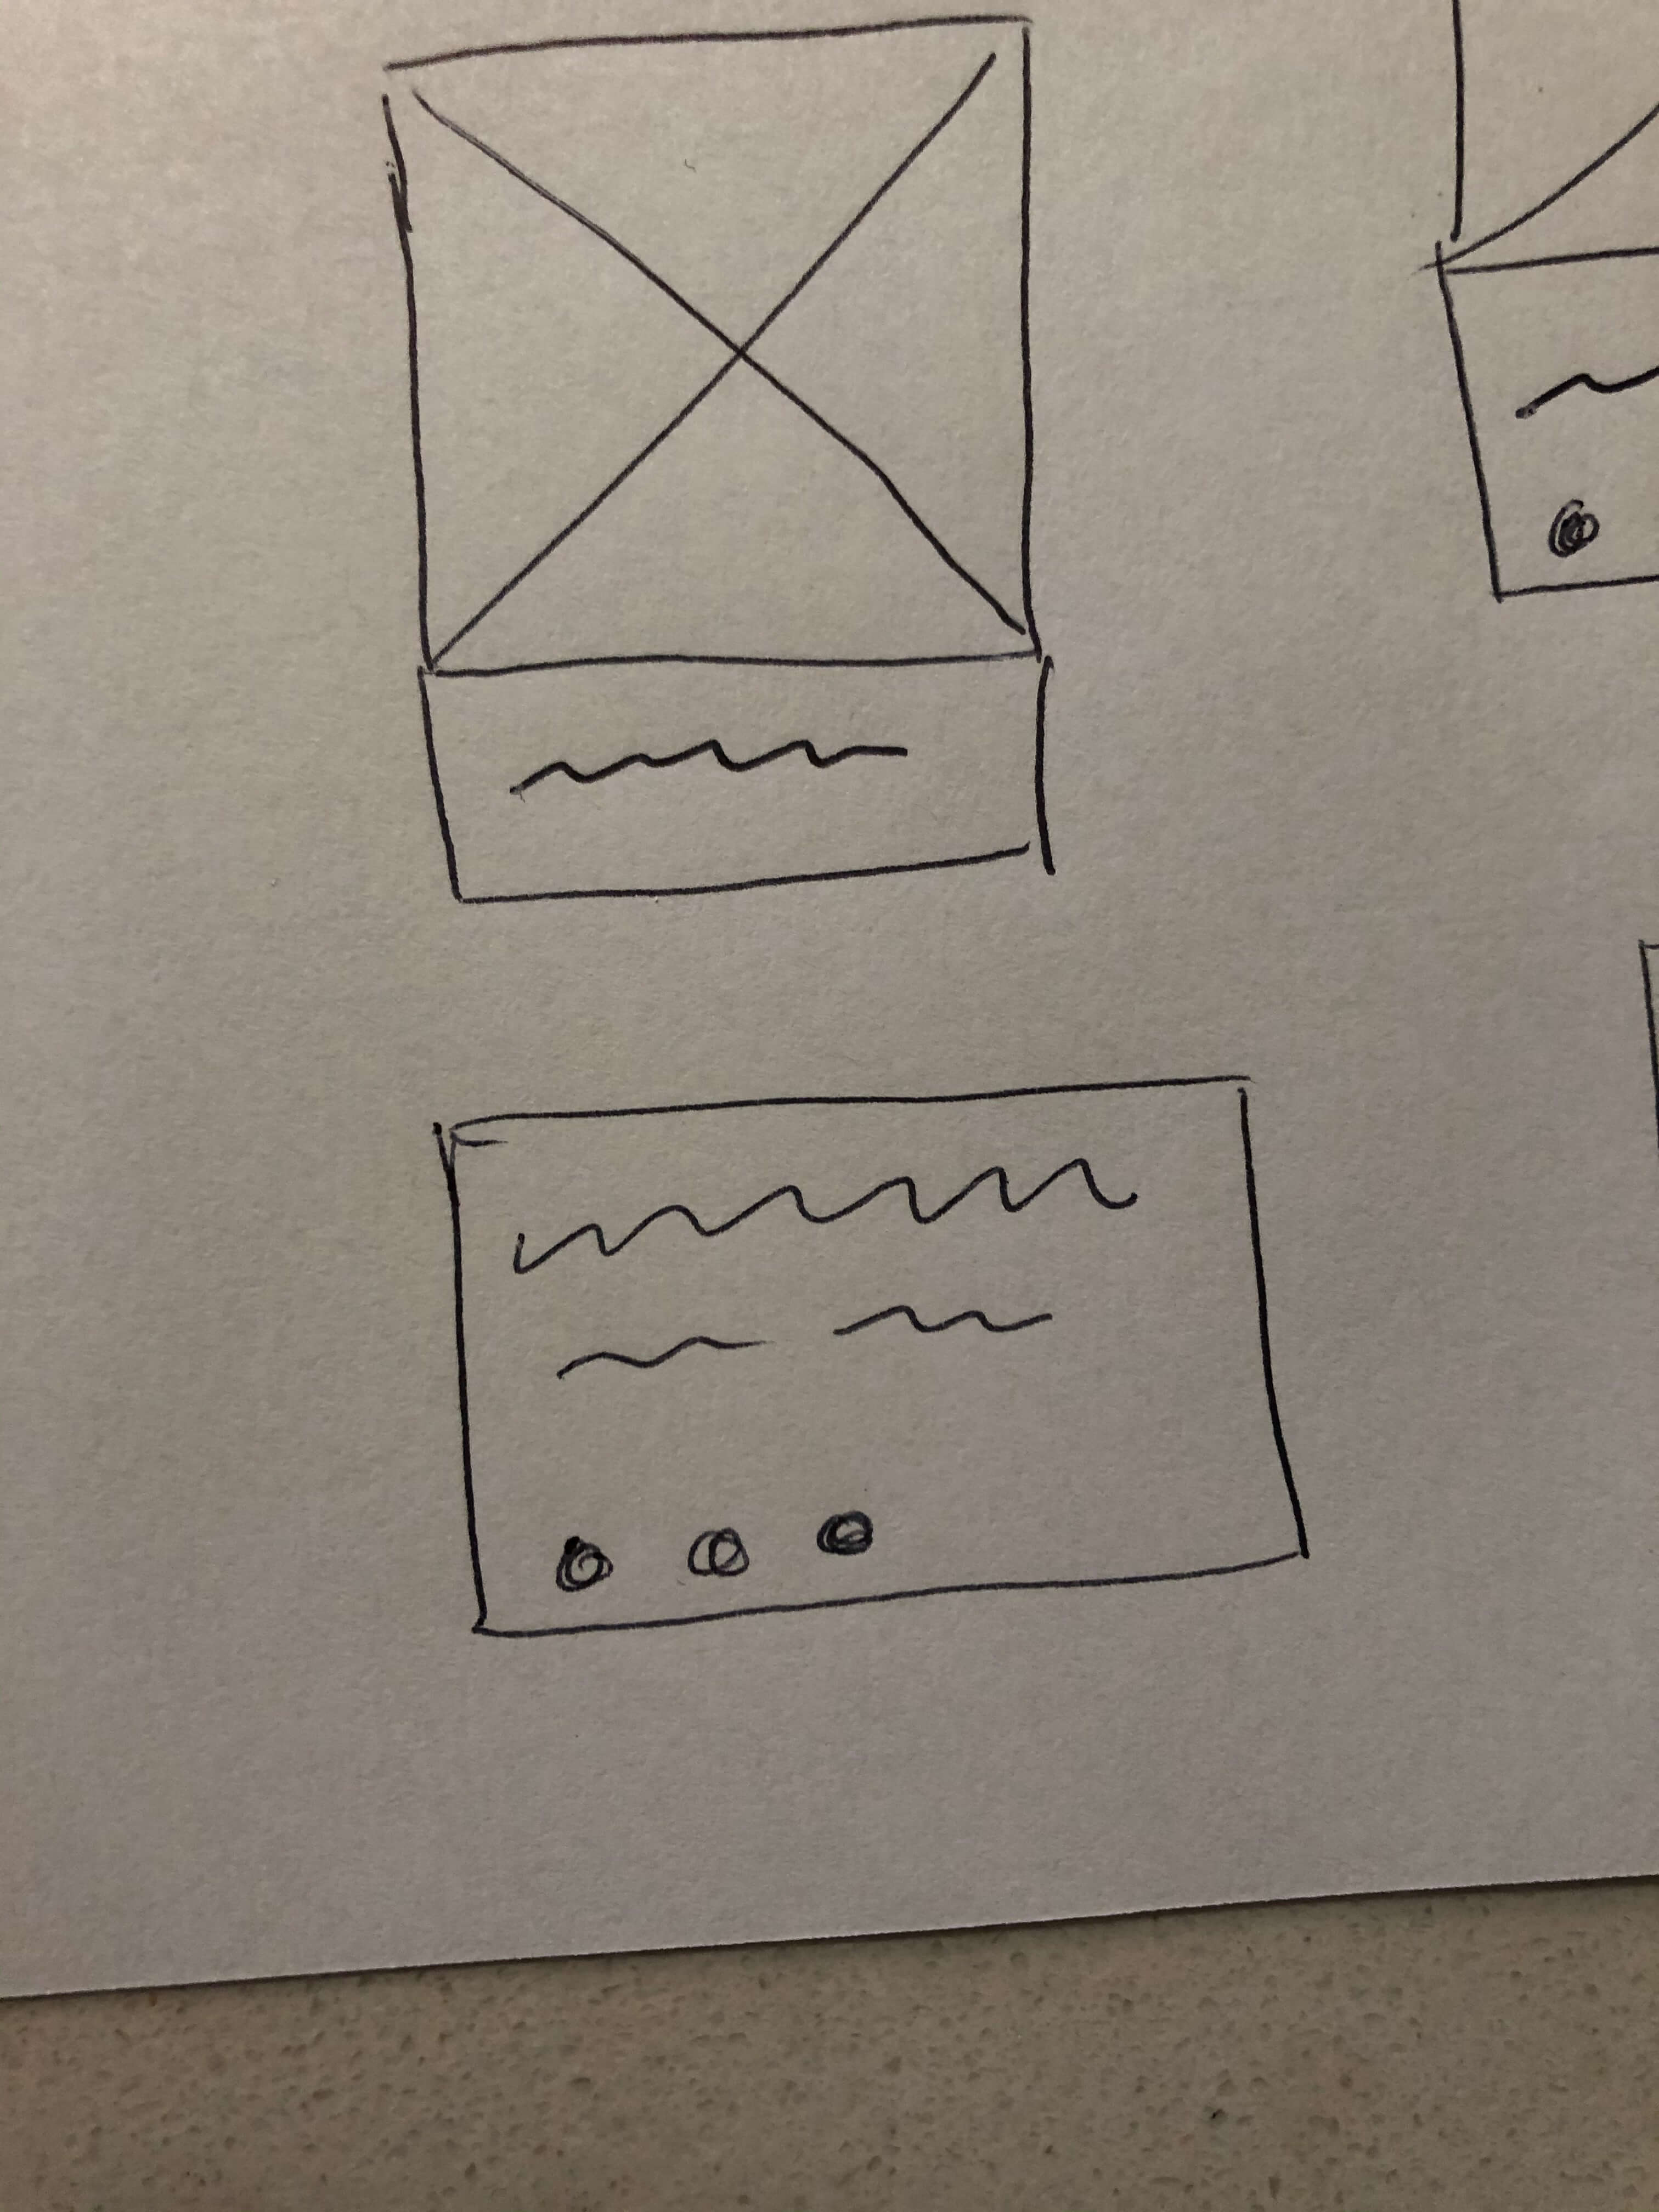card: (375, 10, 1091, 930)
